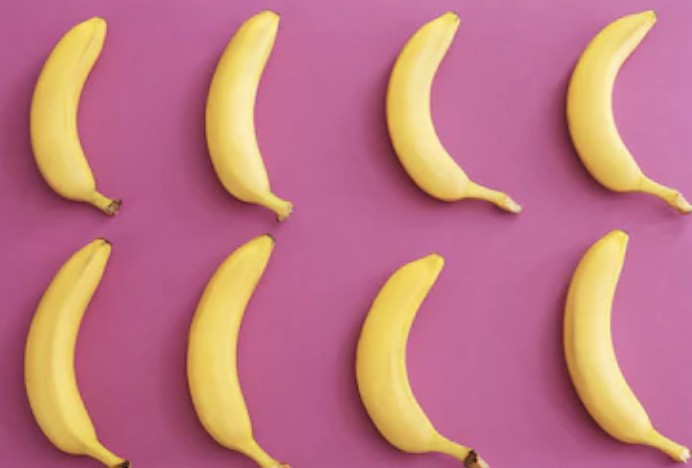fresh_banana: (564, 231, 692, 464), (356, 253, 490, 467), (385, 12, 524, 217), (567, 12, 692, 212), (26, 239, 132, 468), (185, 233, 286, 468), (205, 11, 294, 220), (30, 18, 123, 214)
